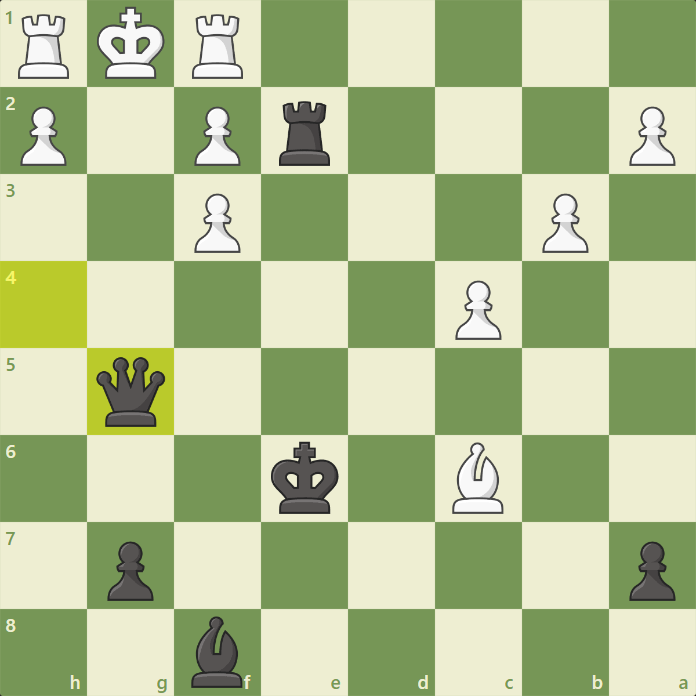B: (452, 439, 506, 515)
K: (95, 5, 167, 82)
P: (451, 277, 504, 343), (539, 191, 592, 257), (627, 103, 680, 169), (191, 191, 244, 257), (191, 104, 244, 170), (17, 103, 70, 169)
R: (187, 10, 246, 82), (14, 11, 73, 83)
b: (188, 614, 245, 690)
k: (269, 439, 342, 518)
p: (627, 539, 677, 604), (107, 540, 155, 604)
q: (96, 354, 167, 429)
r: (276, 98, 335, 168)
